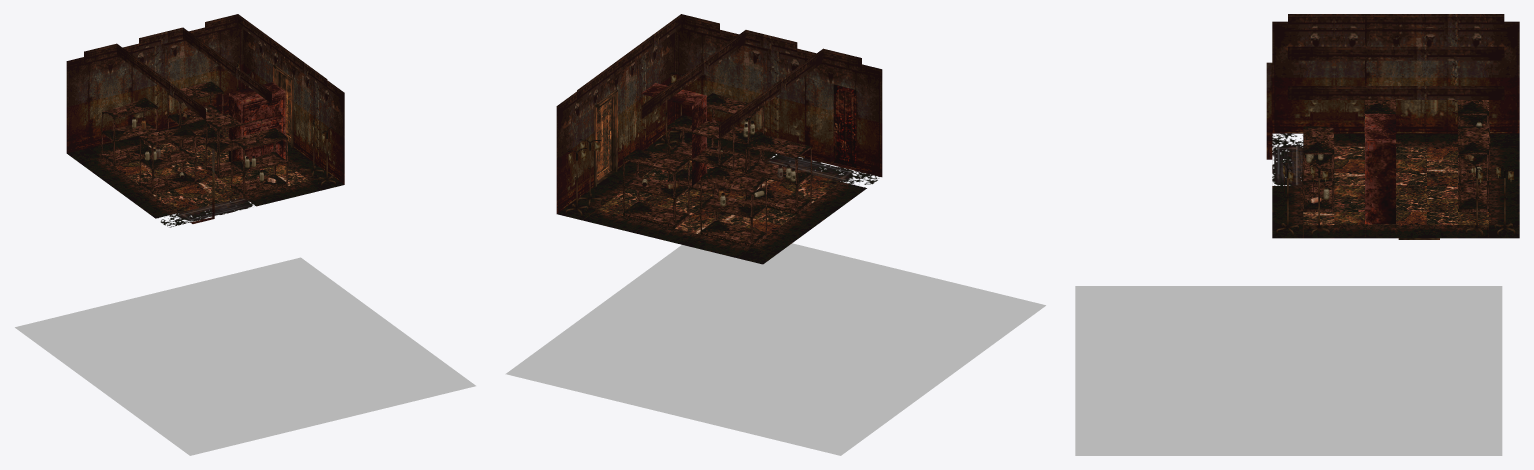
The picture shows the model from 3 angles, left to right: view 1: azimuth 30°, elevation 25°; view 2: azimuth 150°, elevation 25°; view 3: azimuth 270°, elevation 25°; orthographic projection. The views are drawn at different scales.
Parts seen in each view (by area): view 1: TANA_HID_m0, NL_BACK_m2, NL_BACK_m5, NL_BACK_m1, NL_BACK_m0, NL_m6, NL_m7, NL_m2, NL_m3, NL_m8, NL_m5, NL_m4; view 2: TANA_HID_m0, NL_BACK_m3, NL_BACK_m5, NL_BACK_m1, NL_BACK_m0, NL_m6, NL_m8, NL_m5, NL_m2, NL_m7, NL_m4, NL_m3; view 3: TANA_HID_m0, NL_BACK_m4, NL_BACK_m5, NL_BACK_m0, NL_m6, NL_m3, NL_m5, NL_m2, NL_BACK_m3.
Part boxes in pixels (x1=…): TANA_HID_m0: x1=15, y1=82, x2=475, y2=455; NL_BACK_m2: x1=66, y1=14, x2=242, y2=153; NL_BACK_m5: x1=67, y1=114, x2=343, y2=227; NL_BACK_m1: x1=238, y1=14, x2=344, y2=184; NL_BACK_m0: x1=117, y1=27, x2=293, y2=147; NL_m6: x1=101, y1=81, x2=223, y2=169; NL_m7: x1=139, y1=149, x2=196, y2=194; NL_m2: x1=205, y1=114, x2=323, y2=171; NL_m3: x1=231, y1=86, x2=288, y2=196; NL_m8: x1=101, y1=122, x2=157, y2=166; NL_m5: x1=167, y1=105, x2=224, y2=149; NL_m4: x1=205, y1=79, x2=261, y2=178; TANA_HID_m0: x1=505, y1=83, x2=1045, y2=455; NL_BACK_m3: x1=676, y1=14, x2=882, y2=176; NL_BACK_m5: x1=557, y1=129, x2=879, y2=264; NL_BACK_m1: x1=556, y1=14, x2=681, y2=213; NL_BACK_m0: x1=594, y1=30, x2=823, y2=187; NL_m6: x1=623, y1=134, x2=812, y2=216; NL_m8: x1=699, y1=195, x2=766, y2=247; NL_m5: x1=623, y1=177, x2=689, y2=228; NL_m2: x1=667, y1=87, x2=764, y2=164; NL_m7: x1=745, y1=161, x2=812, y2=214; NL_m4: x1=583, y1=142, x2=734, y2=195; NL_m3: x1=597, y1=120, x2=764, y2=172; TANA_HID_m0: x1=1075, y1=114, x2=1502, y2=455; NL_BACK_m4: x1=1272, y1=14, x2=1519, y2=133; NL_BACK_m5: x1=1272, y1=133, x2=1519, y2=238; NL_BACK_m0: x1=1288, y1=46, x2=1504, y2=239; NL_m6: x1=1364, y1=100, x2=1490, y2=182; NL_m3: x1=1302, y1=154, x2=1474, y2=211; NL_m5: x1=1458, y1=154, x2=1488, y2=211; NL_m2: x1=1284, y1=126, x2=1334, y2=195; NL_BACK_m3: x1=1266, y1=62, x2=1272, y2=159.
Bounding box in the file's own units: 10.4 × 8.95 × 11.5.
Materials: 14 (13 with a texture image).
